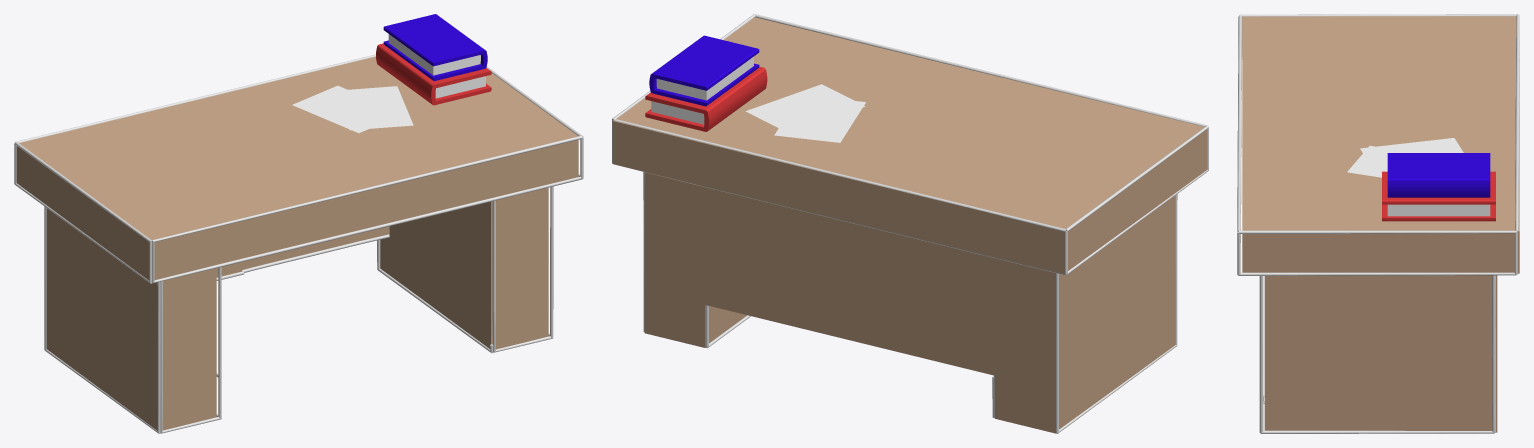
File: 2nd-Level Doctor Table With Outline.fbx
3 views of the same model, side by side, from view 1: azimuth 30°, elevation 25°; view 2: azimuth 150°, elevation 25°; view 3: azimuth 270°, elevation 25° (orthographic). The views are drawn at different scales.
Visible parts, largest first — view 1: Table, 2nd Outline, Book 2, Papers, Book 1, GPencil; view 2: Table, 2nd Outline, Book 2, Papers, Book 1; view 3: Table, 2nd Outline, Book 2, Book 1, Papers.
Boxes of the visible parts, <box> form: Table: <box>16,56,578,430</box>; 2nd Outline: <box>14,54,583,433</box>; Book 2: <box>383,14,487,81</box>; Papers: <box>292,85,413,132</box>; Book 1: <box>376,43,491,105</box>; GPencil: <box>241,234,389,272</box>; Table: <box>613,17,1207,433</box>; 2nd Outline: <box>612,14,1208,433</box>; Book 2: <box>649,35,759,106</box>; Papers: <box>745,84,865,142</box>; Book 1: <box>645,66,767,131</box>; Table: <box>1242,16,1519,432</box>; 2nd Outline: <box>1237,14,1519,433</box>; Book 2: <box>1387,153,1490,197</box>; Book 1: <box>1382,171,1495,221</box>; Papers: <box>1347,138,1463,177</box>.
Size of the model in its own units: 444 by 240 by 243.
